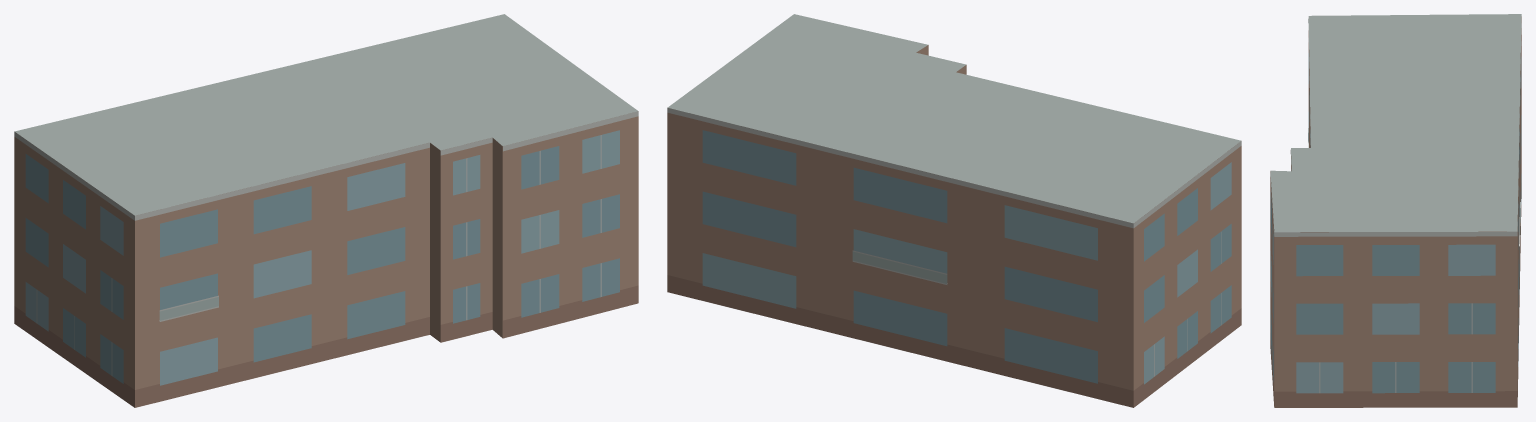
The model's file is survey-upis-32645976.glb.
3 renders of one model, left to right at view 1: azimuth 30°, elevation 25°; view 2: azimuth 150°, elevation 25°; view 3: azimuth 270°, elevation 25°, orthographic. The views are drawn at different scales.
Visible parts, largest first — view 1: survey-upis-32645976.tmp; view 2: survey-upis-32645976.tmp; view 3: survey-upis-32645976.tmp.
Part boxes in pixels (x1,y1,x2,y2): survey-upis-32645976.tmp: [14, 14, 638, 407]; survey-upis-32645976.tmp: [667, 14, 1241, 407]; survey-upis-32645976.tmp: [1270, 14, 1521, 407].
Bounding box in the file's own units: 24.37 × 9.15 × 11.86.
